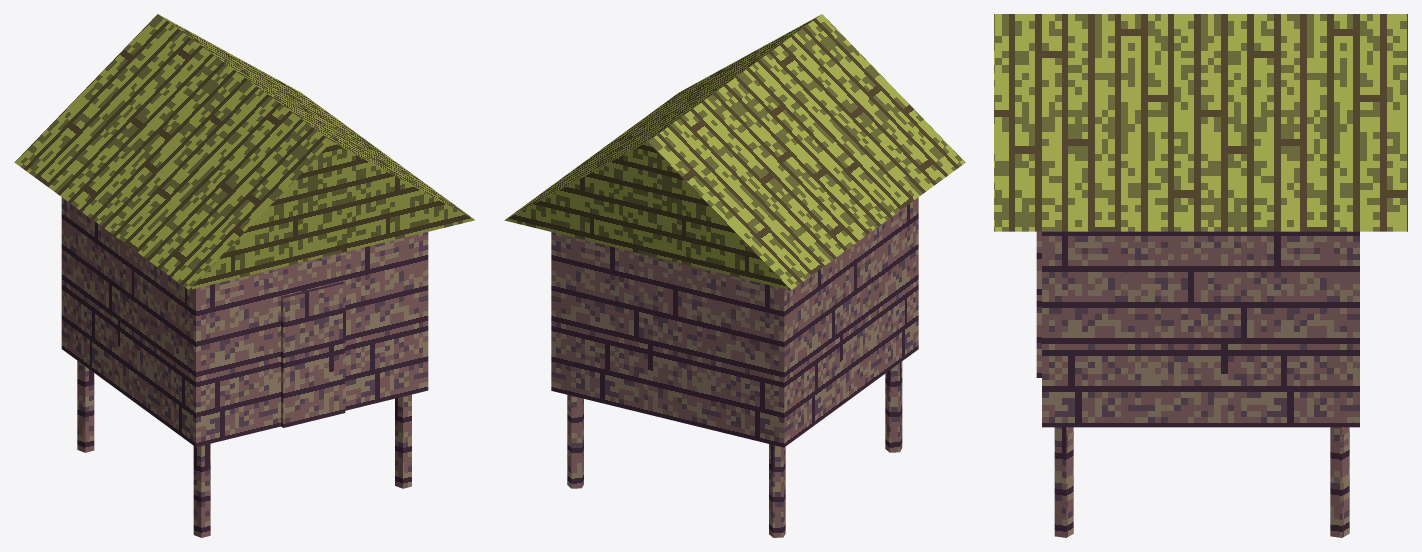
The model's file is porto_arquipelago_casa_palafita_1.glb.
3 renders of one model, left to right at view 1: azimuth 30°, elevation 25°; view 2: azimuth 150°, elevation 25°; view 3: azimuth 270°, elevation 25°, orthographic. The views are drawn at different scales.
Visible parts, largest first — view 1: porto_arquipelago_casa_palafita_1; view 2: porto_arquipelago_casa_palafita_1; view 3: porto_arquipelago_casa_palafita_1.
Boxes of the visible parts, x1=… form: porto_arquipelago_casa_palafita_1: x1=14, y1=14, x2=474, y2=537; porto_arquipelago_casa_palafita_1: x1=504, y1=14, x2=965, y2=537; porto_arquipelago_casa_palafita_1: x1=994, y1=14, x2=1407, y2=537.
Size of the model in its own units: 3.7 by 4.8 by 3.9.
2 materials, 2 textured.
